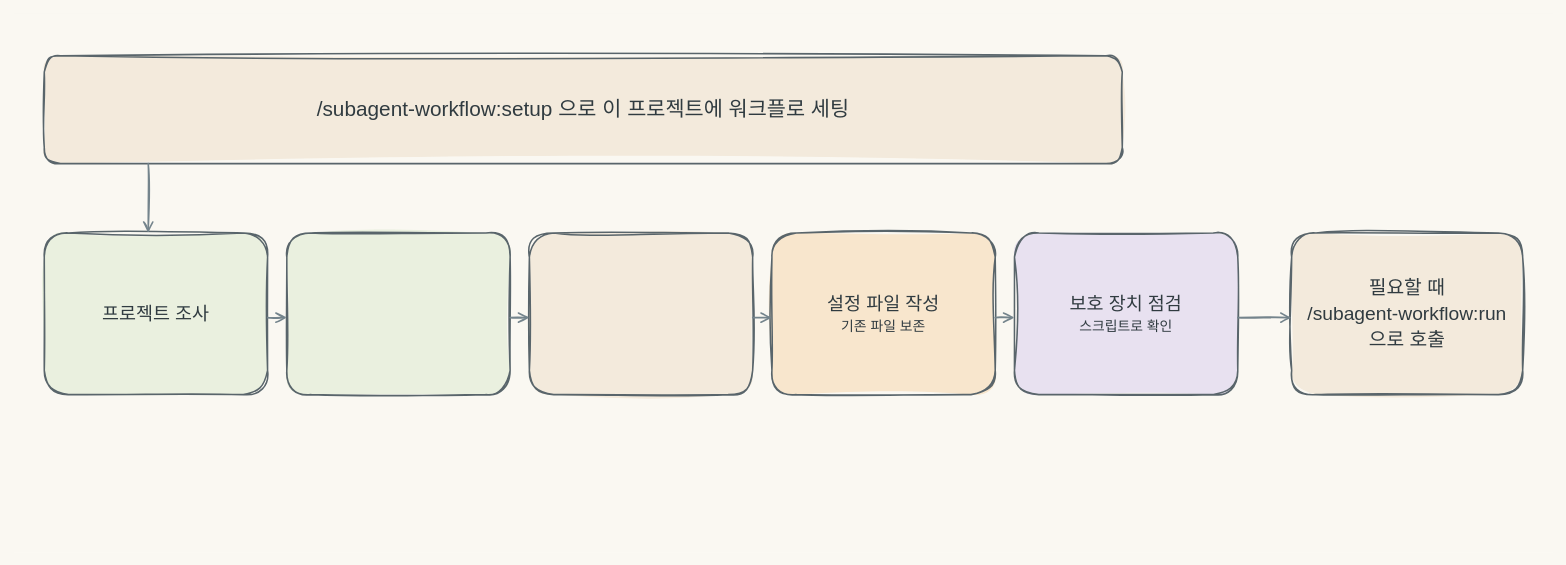
Some shapes in this 1566 by 565 pixel diagram are drawn without their labels. The shapes that lost their labels are listed below. From the top down, each one's centre as x and y in pixels, then its label:
point (398, 313): 채팅으로 질문 Context7, 디자인 도구, 금지 영역
point (640, 313): 계획 요약, 확인 1회
